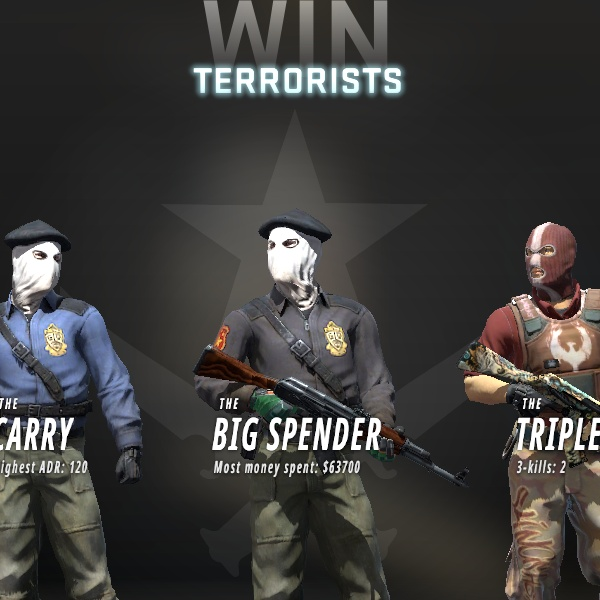t_body: (437, 206, 598, 600)
t_head: (497, 208, 600, 325)
